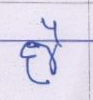ai_matra: (42, 18, 62, 39)
